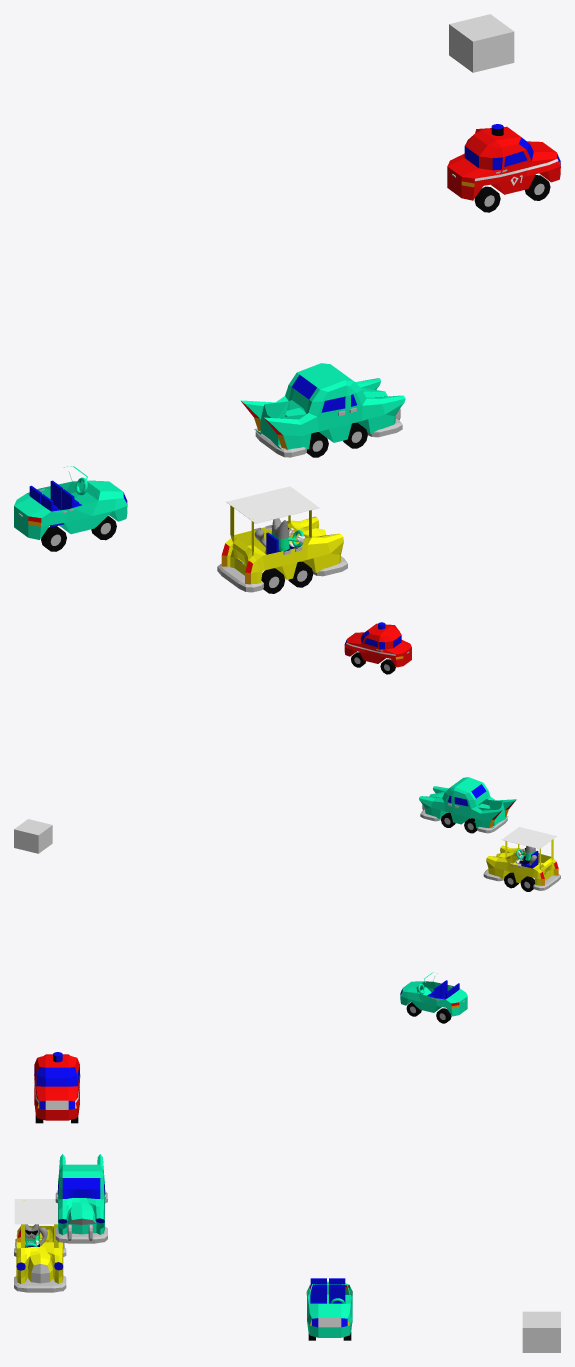
Rendered from 4avto.fbx.
3 renders of one model, top to bottom at view 1: azimuth 30°, elevation 25°; view 2: azimuth 150°, elevation 25°; view 3: azimuth 270°, elevation 25°, orthographic. The views are drawn at different scales.
Parts seen in each view (by area): view 1: Американский пикап 1950х/1950s American s.001, retromalolitrazhkanayachte, Пожарная машина/Firecar, Кабриолет/Cabriolet.001, Cube.007, Cube.002; view 2: Американский пикап 1950х/1950s American s.001, retromalolitrazhkanayachte, Пожарная машина/Firecar, Кабриолет/Cabriolet.001, Cube.007; view 3: retromalolitrazhkanayachte, Американский пикап 1950х/1950s American s.001, Пожарная машина/Firecar, Кабриолет/Cabriolet.001, Cube.007, Cube.002.
Boxes of the visible parts, left/top/right/bottom form: Американский пикап 1950х/1950s American s.001: left=240, top=363, right=405, bottom=457; retromalolitrazhkanayachte: left=217, top=486, right=347, bottom=593; Пожарная машина/Firecar: left=447, top=126, right=560, bottom=212; Кабриолет/Cabriolet.001: left=14, top=466, right=127, bottom=551; Cube.007: left=449, top=14, right=514, bottom=72; Cube.002: left=254, top=518, right=305, bottom=551; Американский пикап 1950х/1950s American s.001: left=419, top=777, right=516, bottom=833; retromalolitrazhkanayachte: left=483, top=827, right=560, bottom=891; Пожарная машина/Firecar: left=344, top=623, right=411, bottom=674; Кабриолет/Cabriolet.001: left=400, top=972, right=467, bottom=1023; Cube.007: left=14, top=819, right=52, bottom=853; retromalolitrazhkanayachte: left=14, top=1199, right=66, bottom=1292; Американский пикап 1950х/1950s American s.001: left=55, top=1154, right=107, bottom=1243; Пожарная машина/Firecar: left=34, top=1054, right=80, bottom=1123; Кабриолет/Cabriolet.001: left=306, top=1278, right=352, bottom=1340; Cube.007: left=522, top=1311, right=560, bottom=1352; Cube.002: left=25, top=1224, right=47, bottom=1247.
Bounding box in the file's own units: 2967 × 2171 × 2849.
